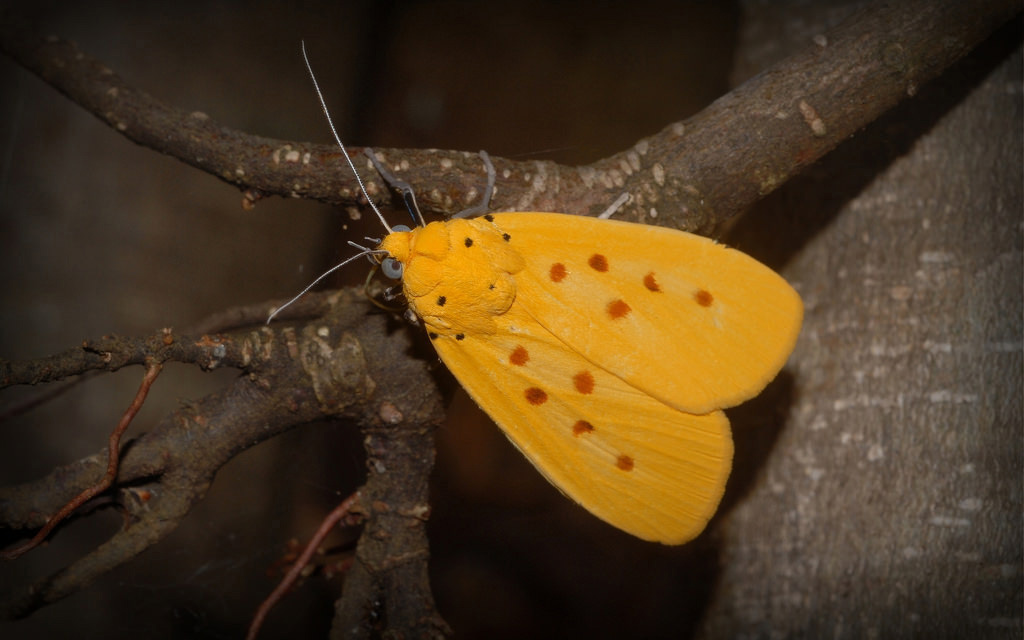Agape chloropyga: (259, 33, 808, 545)
moth: (261, 35, 810, 547)
